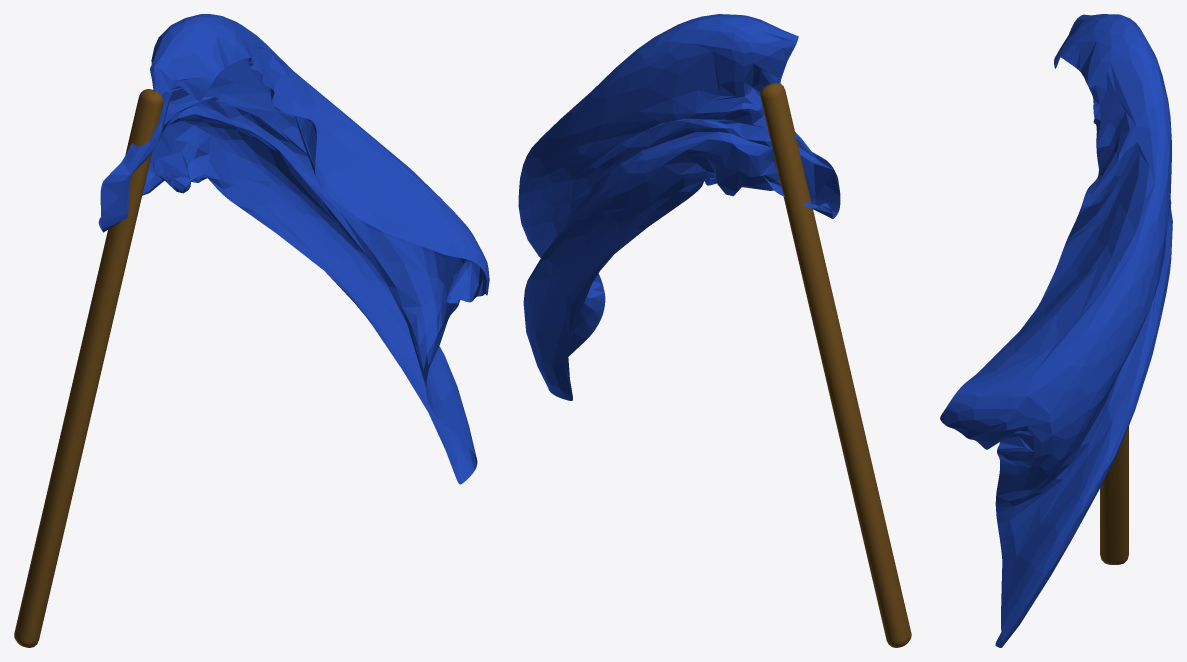
The model's file is flag.fbx.
3 views of the same model, side by side, from view 1: azimuth 30°, elevation 25°; view 2: azimuth 150°, elevation 25°; view 3: azimuth 270°, elevation 25° (orthographic). The views are drawn at different scales.
Visible parts, largest first — view 1: Flag, Staff; view 2: Flag, Staff; view 3: Flag, Staff.
Boxes of the visible parts, left/top/right/bottom form: Flag: left=98, top=14, right=489, bottom=484; Staff: left=14, top=89, right=163, bottom=647; Flag: left=518, top=14, right=840, bottom=400; Staff: left=760, top=83, right=911, bottom=647; Flag: left=940, top=14, right=1172, bottom=647; Staff: left=1100, top=426, right=1128, bottom=564.
Size of the model in its own units: 541 by 728 by 244.
